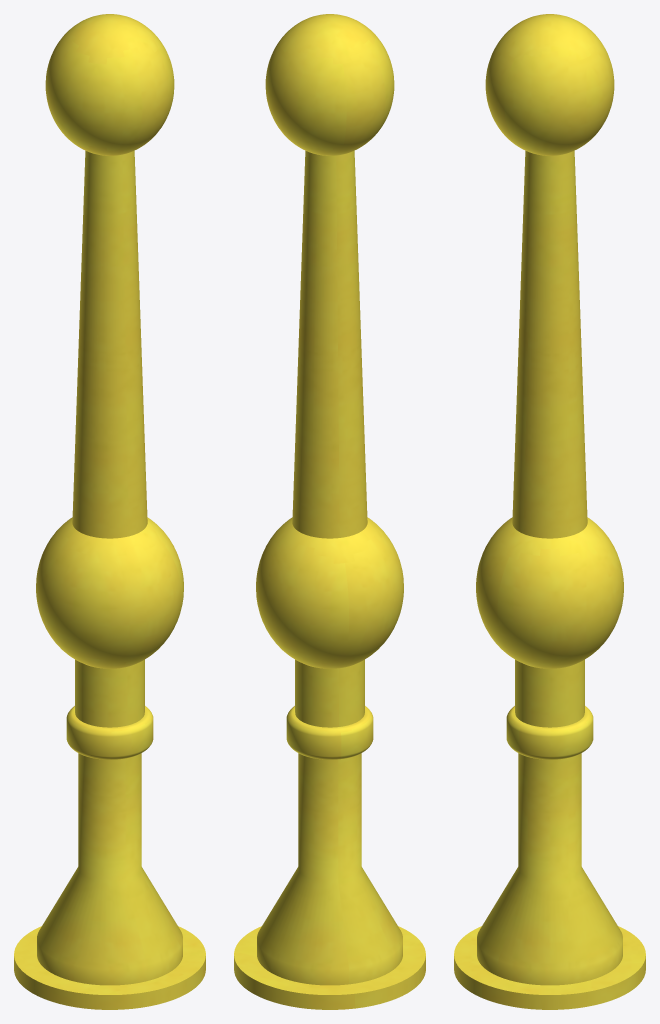
File: SM_decoration_01.glb
3 renders of one model, left to right at view 1: azimuth 30°, elevation 25°; view 2: azimuth 150°, elevation 25°; view 3: azimuth 270°, elevation 25°, orthographic.
Visible parts, largest first — view 1: SM_decoration_01; view 2: SM_decoration_01; view 3: SM_decoration_01.
Boxes of the visible parts, x1,y1,x2,y2 form: SM_decoration_01: (14,14,205,1009); SM_decoration_01: (234,14,425,1009); SM_decoration_01: (454,14,645,1009).
Size of the model in its own units: 0.4125 by 2.25 by 0.4125.
Materials: 1 (1 with a texture image).
